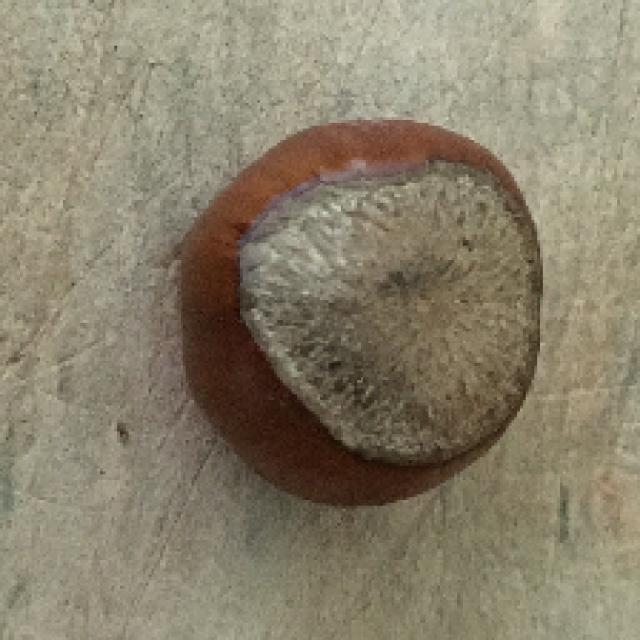qualityHazelnut: (172, 110, 548, 515)
